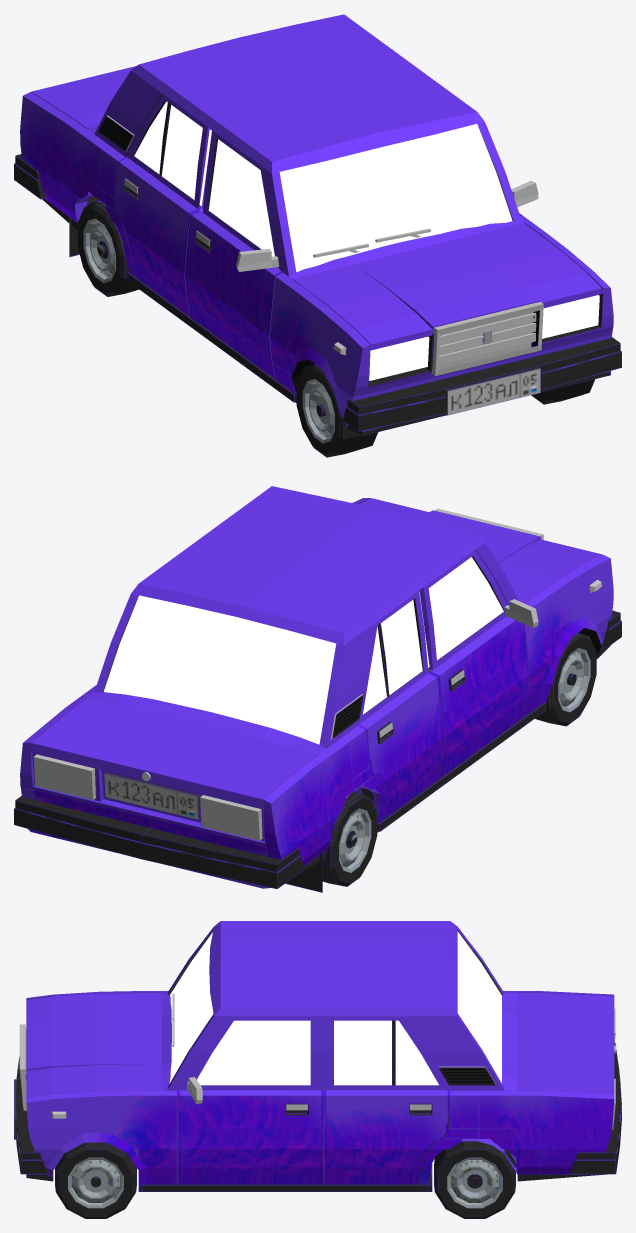
File: vaz_cherry.fbx
3 views of the same model, one above another, from view 1: azimuth 30°, elevation 25°; view 2: azimuth 150°, elevation 25°; view 3: azimuth 270°, elevation 25° (orthographic). The views are drawn at different scales.
Visible parts, largest first — view 1: Car, torus, torus.003, torus.005; view 2: Car, torus.003, torus; view 3: Car, torus.007, torus.005.
Part boxes in pixels (x1,y1,x2,y2): Car: (14, 14, 621, 435); torus: (296, 364, 378, 457); torus.003: (77, 202, 138, 296); torus.005: (531, 379, 594, 404); Car: (14, 486, 621, 892); torus.003: (322, 791, 377, 886); torus: (535, 633, 596, 726); Car: (14, 921, 621, 1191); torus.007: (434, 1141, 515, 1218); torus.005: (55, 1142, 136, 1218).
Bounding box in the file's own units: 2.42 × 1.83 × 4.91.
